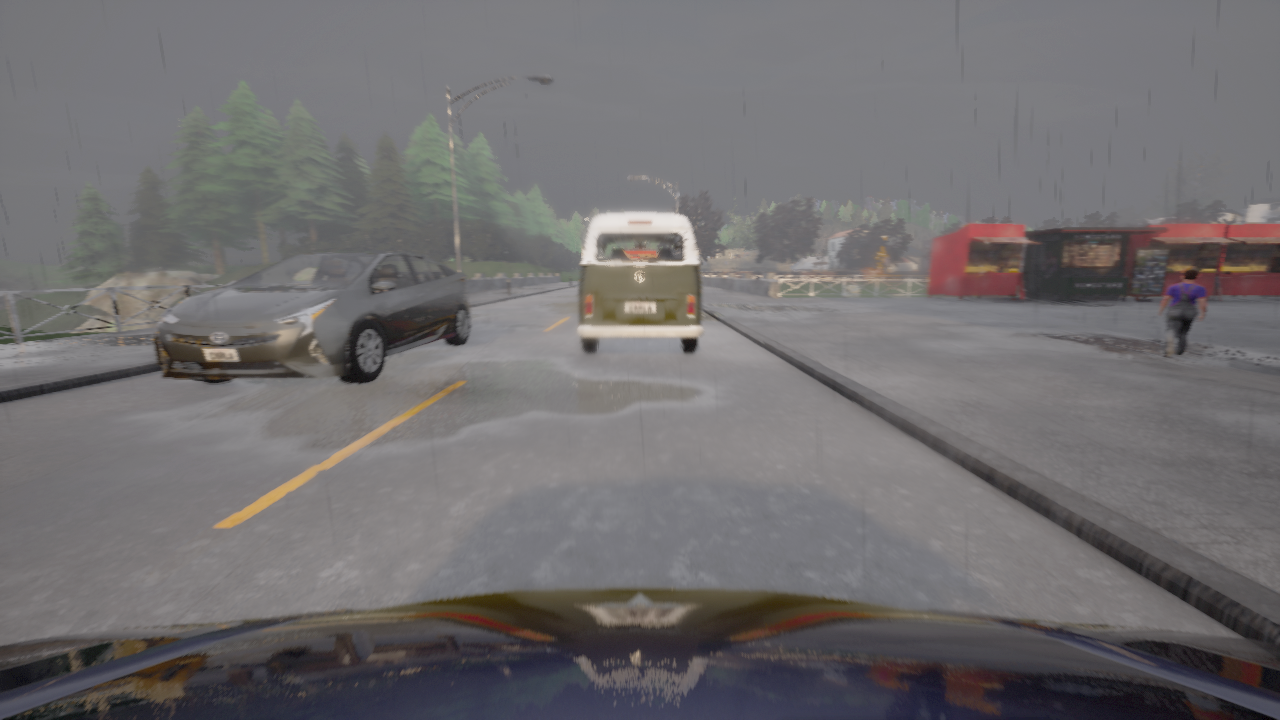cyclist: (0, 588, 1279, 719), (153, 250, 471, 384), (576, 212, 703, 354)
pedestrian: (1158, 269, 1206, 357)
